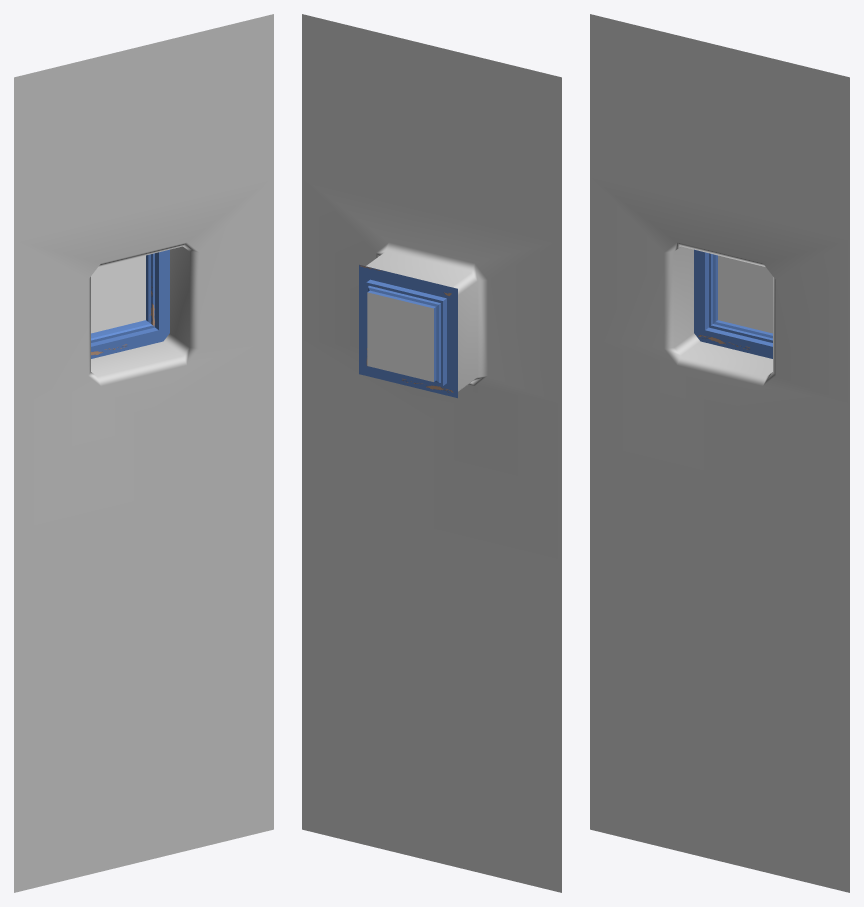
File: WallSqaureWindow.fbx
3 views of the same model, side by side, from view 1: azimuth 30°, elevation 25°; view 2: azimuth 150°, elevation 25°; view 3: azimuth 330°, elevation 25° (orthographic).
Visible parts, largest first — view 1: WallSqaureWindow; view 2: WallSqaureWindow; view 3: WallSqaureWindow.
Part boxes in pixels (left/top/right/bottom): WallSqaureWindow: left=14, top=14, right=273, bottom=892; WallSqaureWindow: left=302, top=14, right=561, bottom=892; WallSqaureWindow: left=590, top=14, right=849, bottom=892.
Bounding box in the file's own units: 100 × 300 × 20.9.
Materials: 3 (2 with a texture image).
